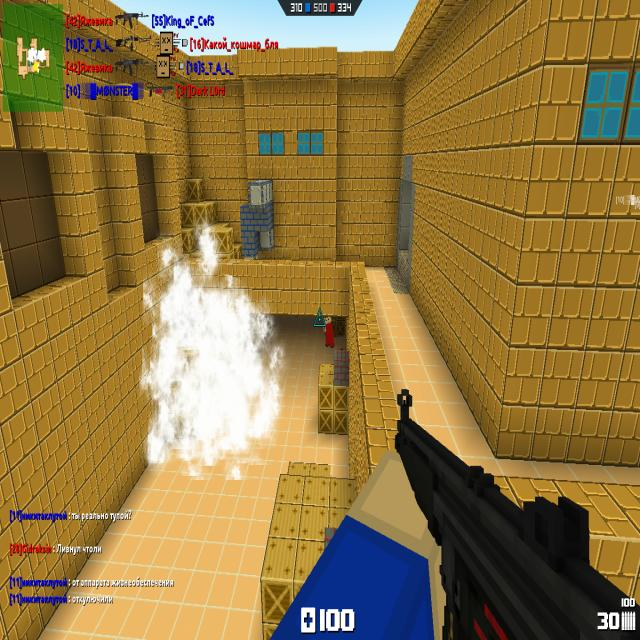enemy: (323, 316, 335, 350)
